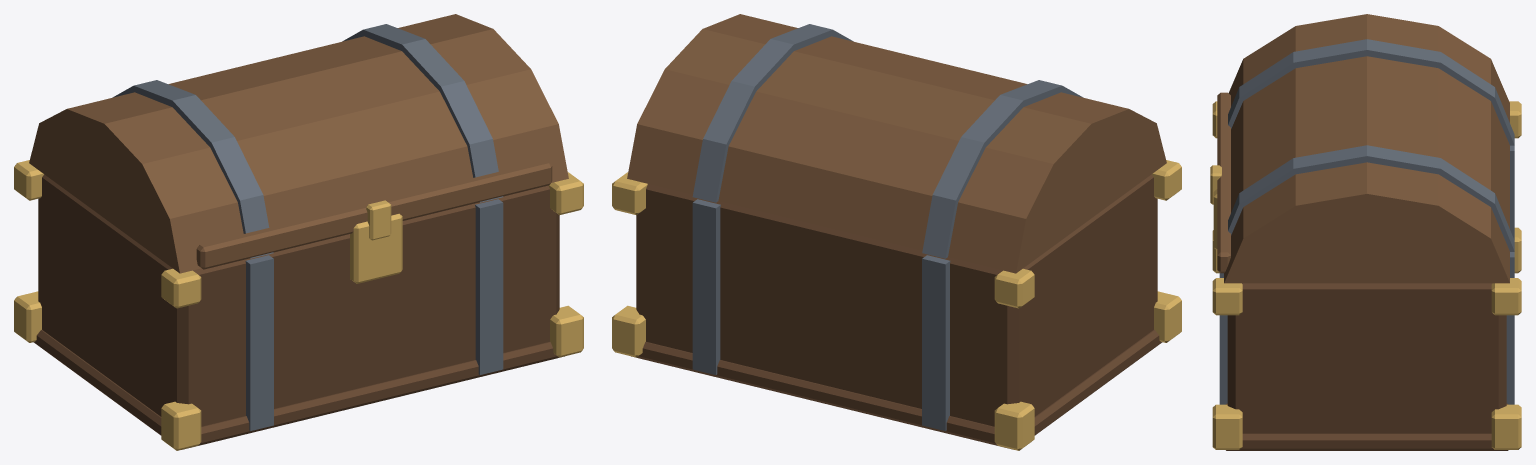
The model's file is Chest_Large.fbx.
3 renders of one model, left to right at view 1: azimuth 30°, elevation 25°; view 2: azimuth 150°, elevation 25°; view 3: azimuth 270°, elevation 25°, orthographic. The views are drawn at different scales.
Visible parts, largest first — view 1: Lid, Box, Straps, Fittings; view 2: Box, Lid, Straps, Fittings; view 3: Lid, Box, Straps, Fittings.
Boxes of the visible parts, bbox=[...] form: Lid: bbox=[29, 14, 568, 273]; Box: bbox=[33, 174, 564, 449]; Straps: bbox=[112, 24, 503, 430]; Fittings: bbox=[14, 160, 583, 450]; Box: bbox=[631, 174, 1162, 449]; Lid: bbox=[627, 14, 1166, 273]; Straps: bbox=[692, 24, 1083, 430]; Fittings: bbox=[612, 160, 1181, 450]; Lid: bbox=[1217, 14, 1509, 283]; Box: bbox=[1226, 283, 1508, 450]; Straps: bbox=[1219, 39, 1514, 404]; Fittings: bbox=[1210, 101, 1521, 449].
Bounding box in the file's own units: 3.86 × 2.51 × 2.68.
